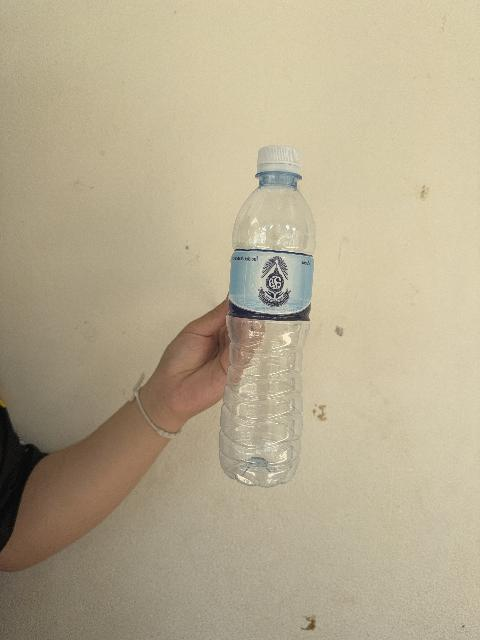bottle: (219, 146, 314, 486)
